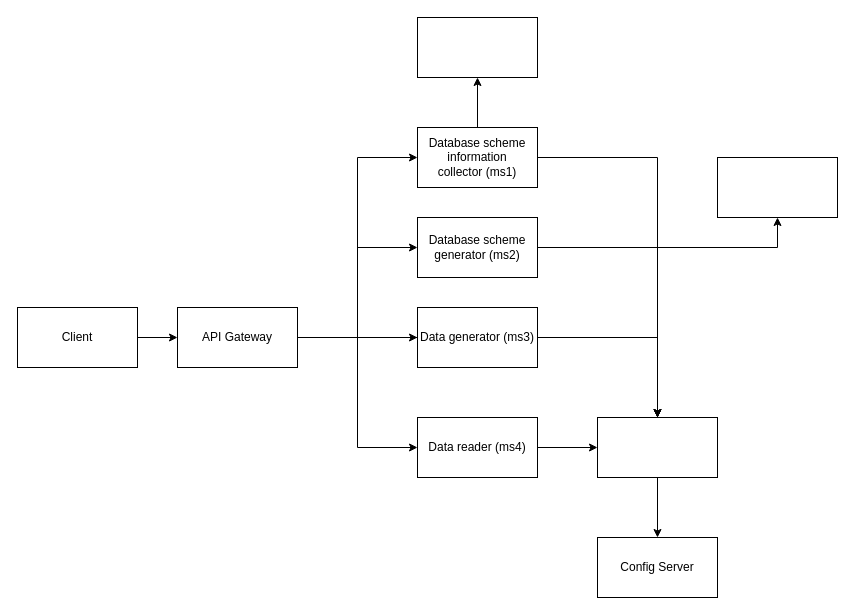
Some shapes in this 855 by 615 pixel diagram are drawn without their labels. The centre of each missing label's shape, as x and y in pixels:
"DatabaseInfo" belongs at pixel 477 47.
"Operational database" belongs at pixel 777 187.
"Service Registry" belongs at pixel 657 447.
